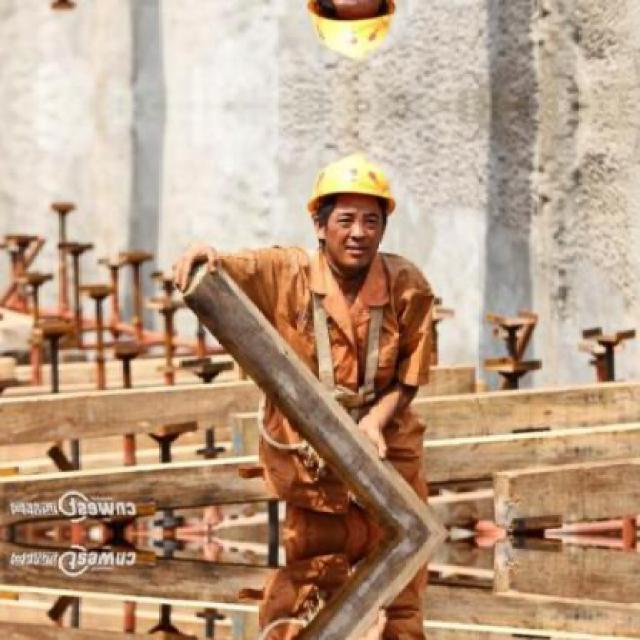helmet: (298, 143, 412, 273), (297, 0, 412, 71)
